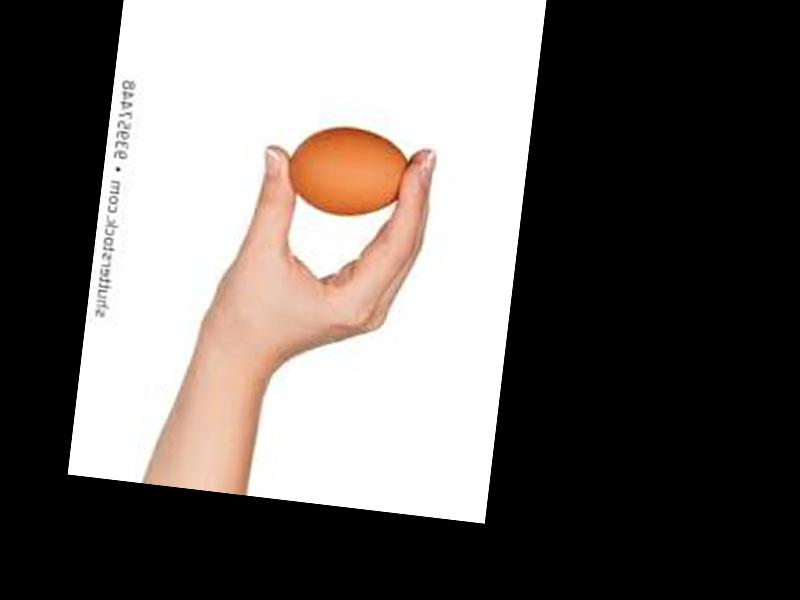Eggs: (283, 121, 418, 221)
